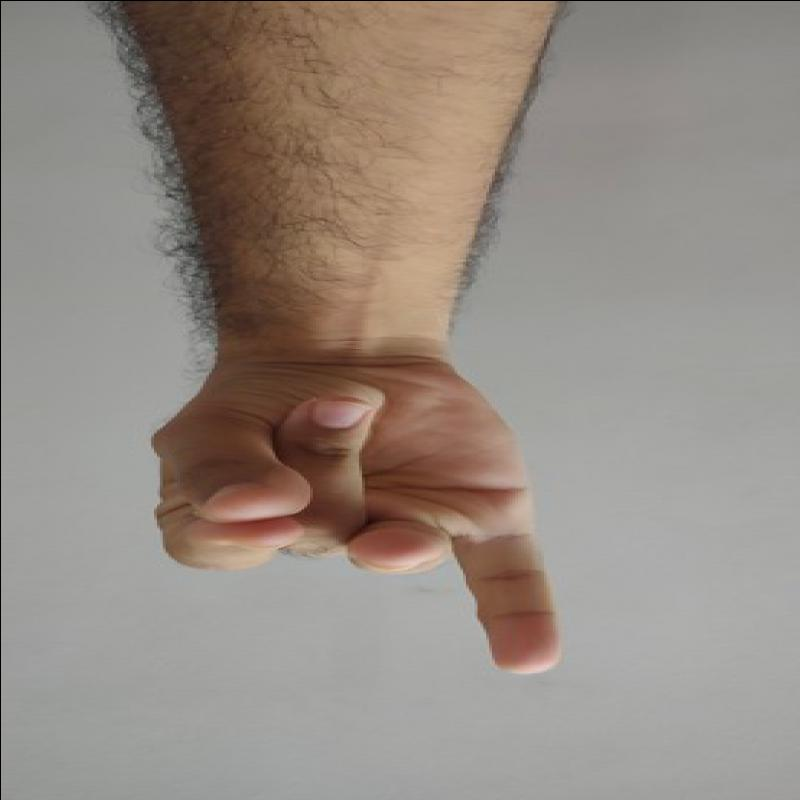Katakam: (131, 328, 574, 704)
